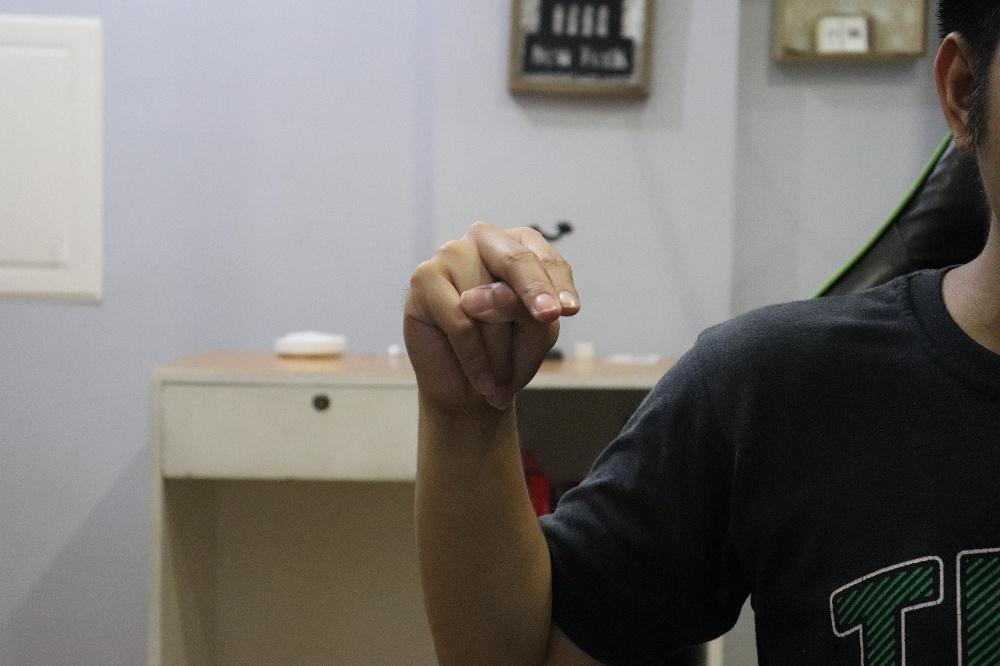n: (401, 218, 580, 412)
